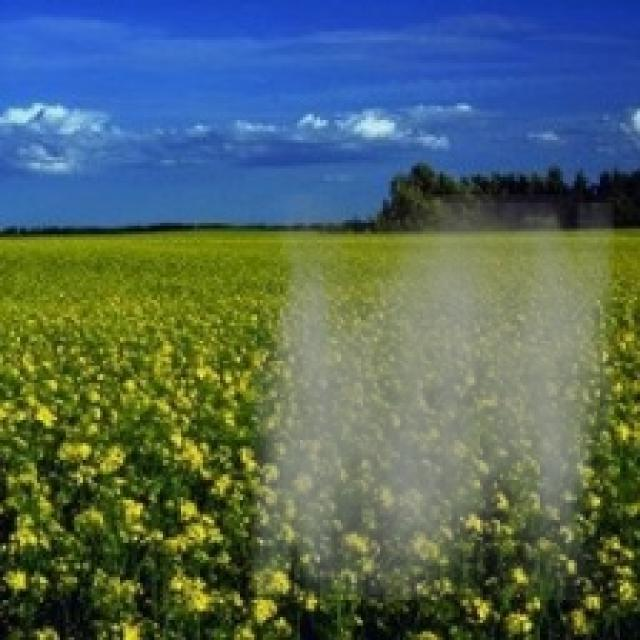Smoke: (252, 195, 614, 600)
